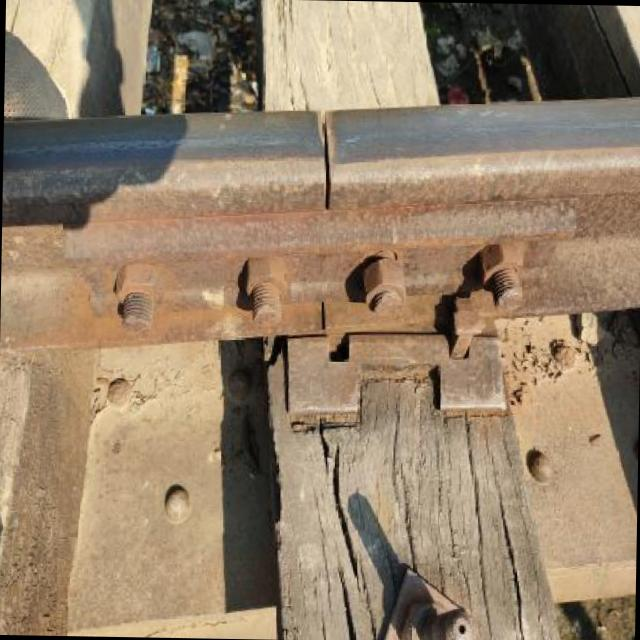non-defective: (130, 36, 598, 275)
